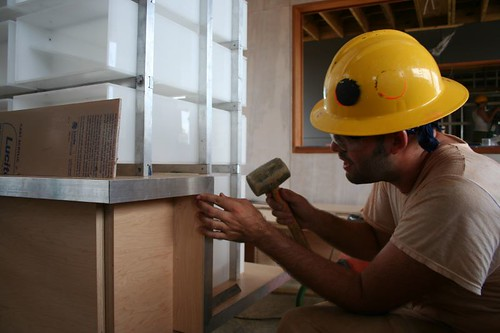person hardhat: (199, 28, 500, 331)
